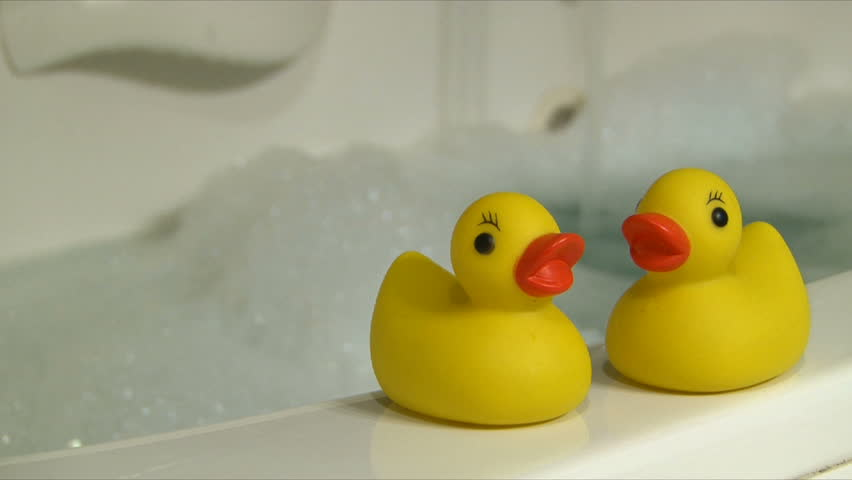Duck: (370, 192, 594, 426), (604, 167, 813, 394)
